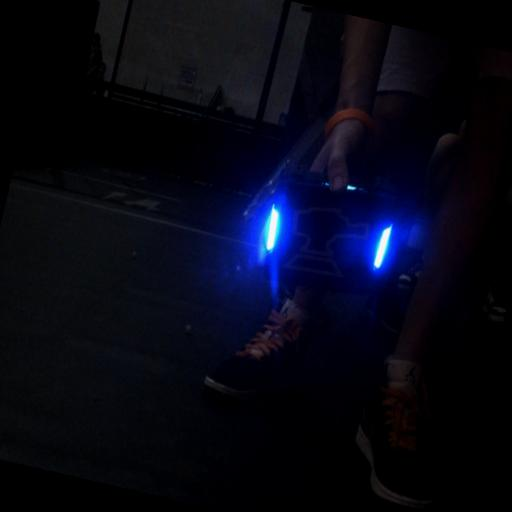target: (252, 172, 407, 306)
